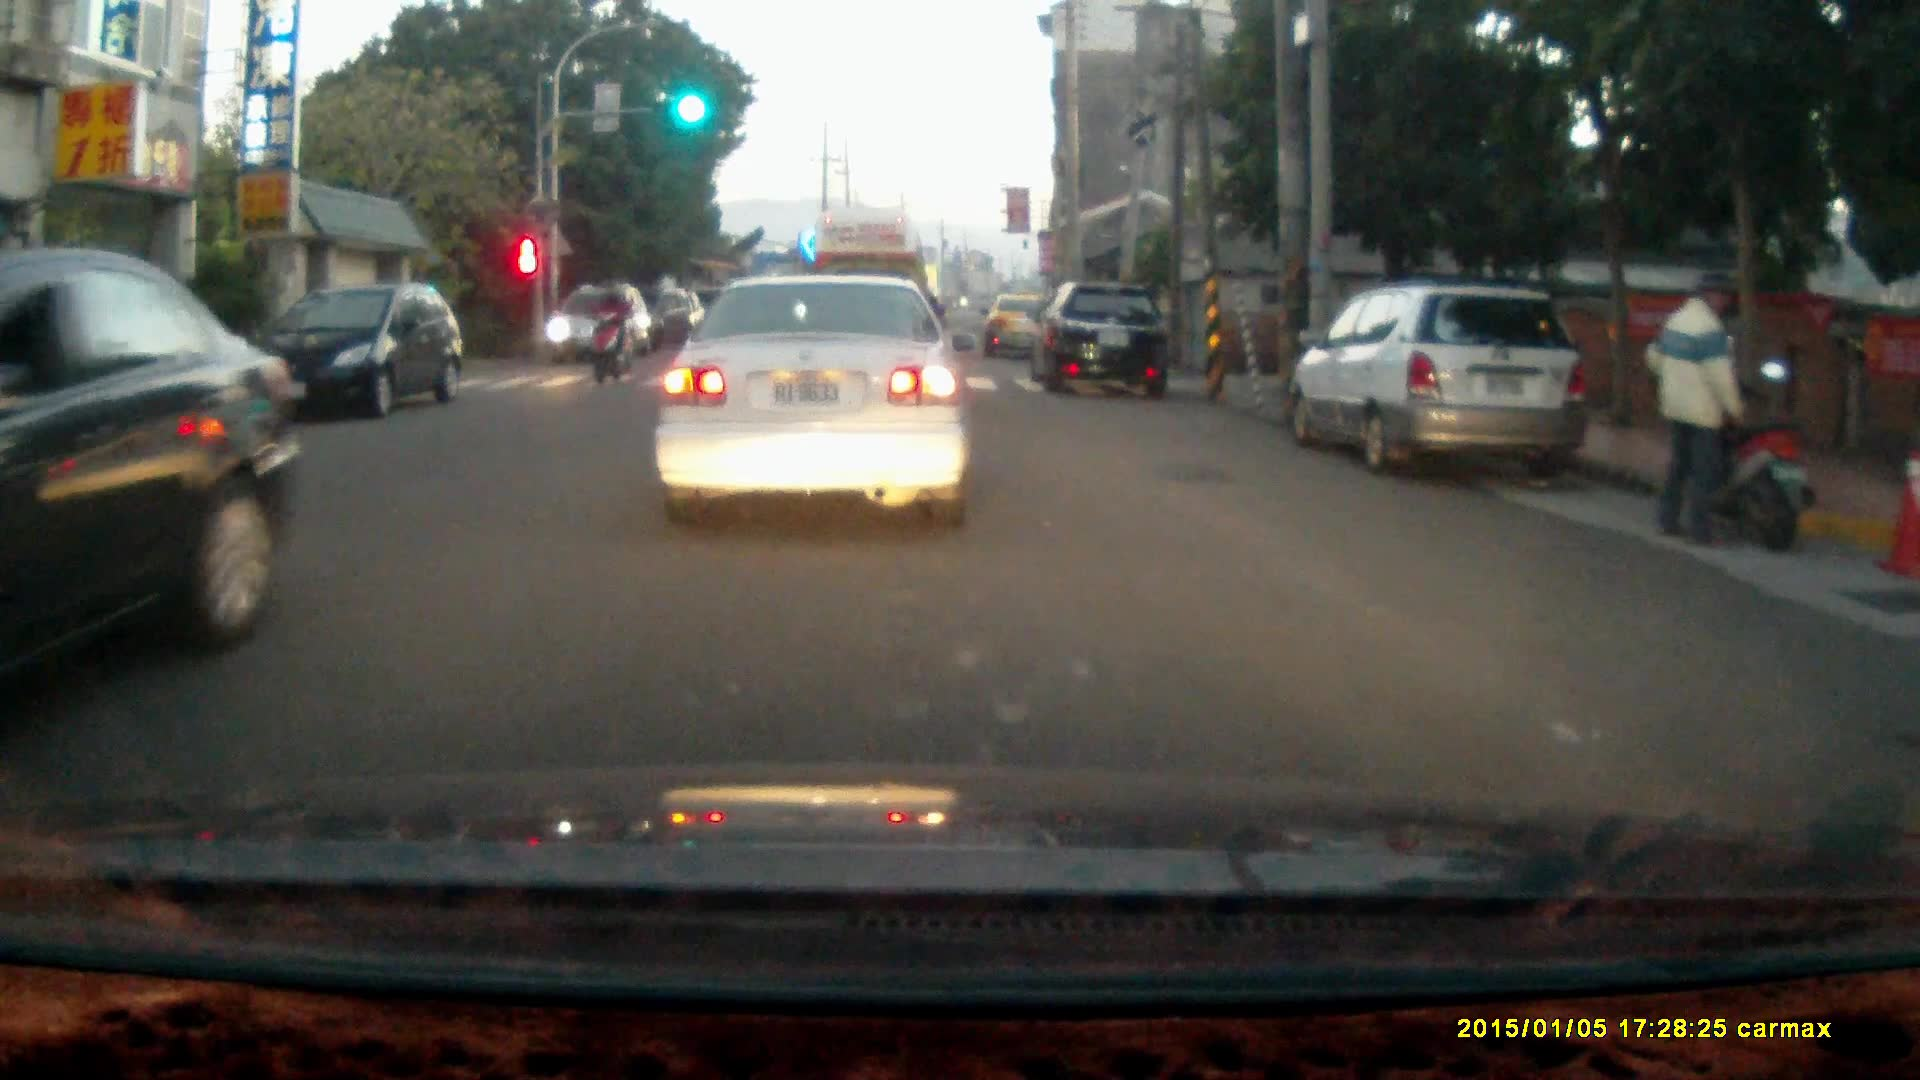pedestrian: (1643, 268, 1741, 548)
rider: (586, 276, 626, 381)
vehicle: (1, 245, 315, 684), (654, 272, 975, 525), (1300, 283, 1587, 479), (231, 285, 465, 417), (813, 204, 930, 366), (1031, 278, 1176, 395), (548, 282, 653, 358), (977, 294, 1070, 364)
